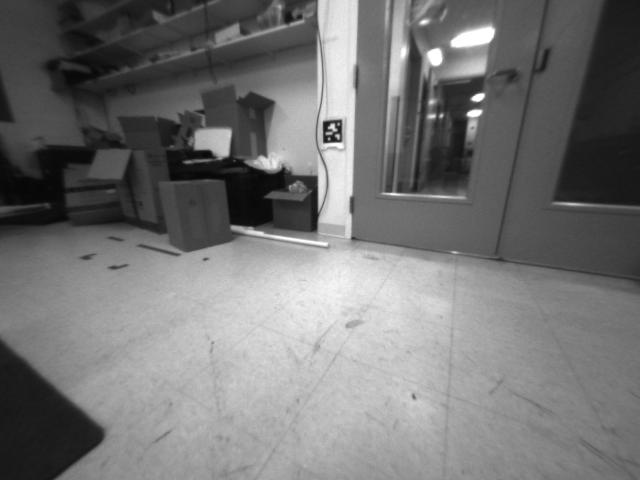door_handle: (481, 60, 522, 86)
